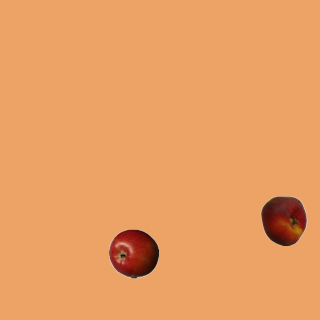Apple Braeburn: (108, 228, 158, 278)
Nectarine Flat: (258, 195, 308, 245)
